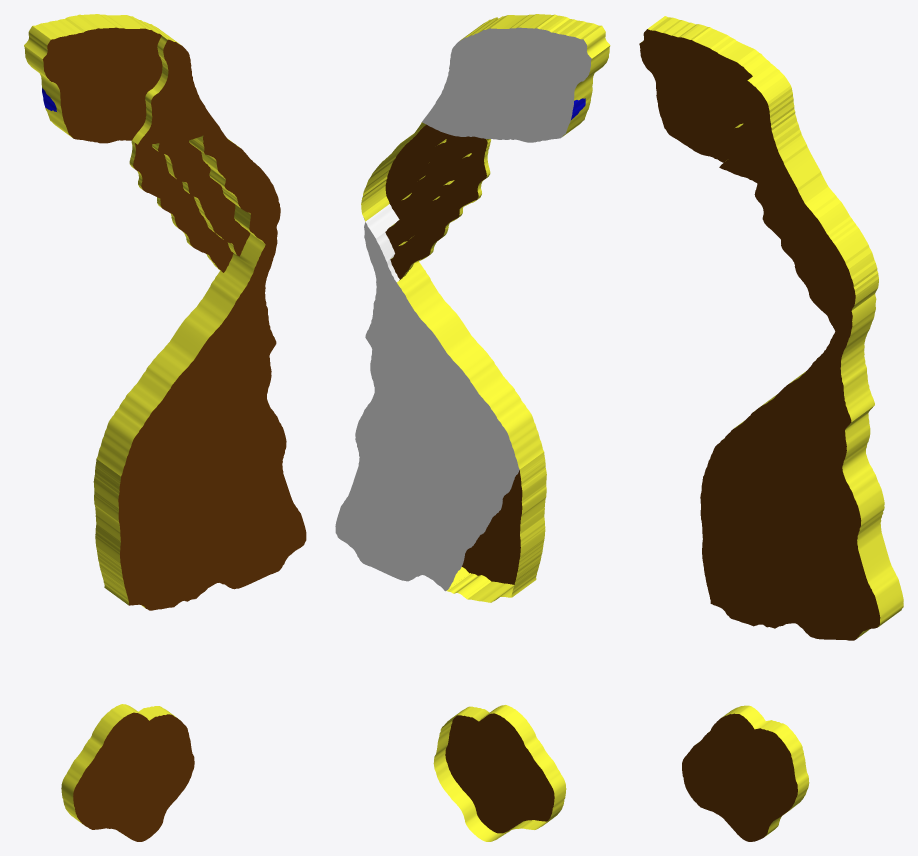
Rendered from anna_level1_mountains.fbx.
3 views of the same model, side by side, from view 1: azimuth 30°, elevation 25°; view 2: azimuth 150°, elevation 25°; view 3: azimuth 330°, elevation 25° (orthographic). The views are drawn at different scales.
Parts seen in each view (by area): view 1: Model; view 2: Model; view 3: Model.
Boxes of the visible parts, x1=… form: Model: x1=24, y1=14, x2=306, y2=841; Model: x1=335, y1=14, x2=610, y2=841; Model: x1=639, y1=16, x2=903, y2=841.
Bounding box in the file's own units: 1.32 × 3.92 × 0.21.
